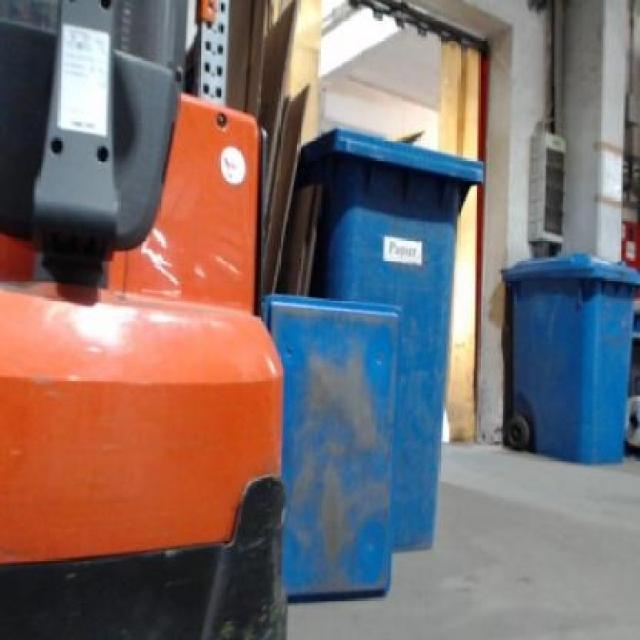pallets: (295, 126, 480, 546), (263, 294, 395, 597), (502, 252, 637, 460)
